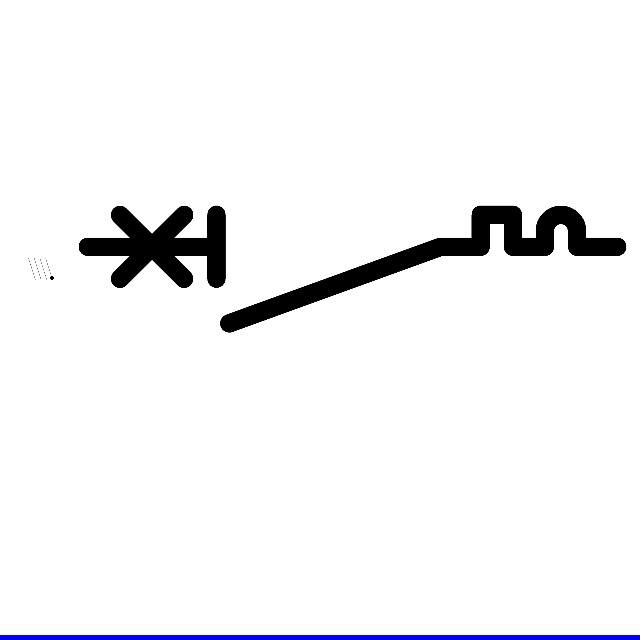interruptor_termomagnetico: (73, 201, 630, 337)
